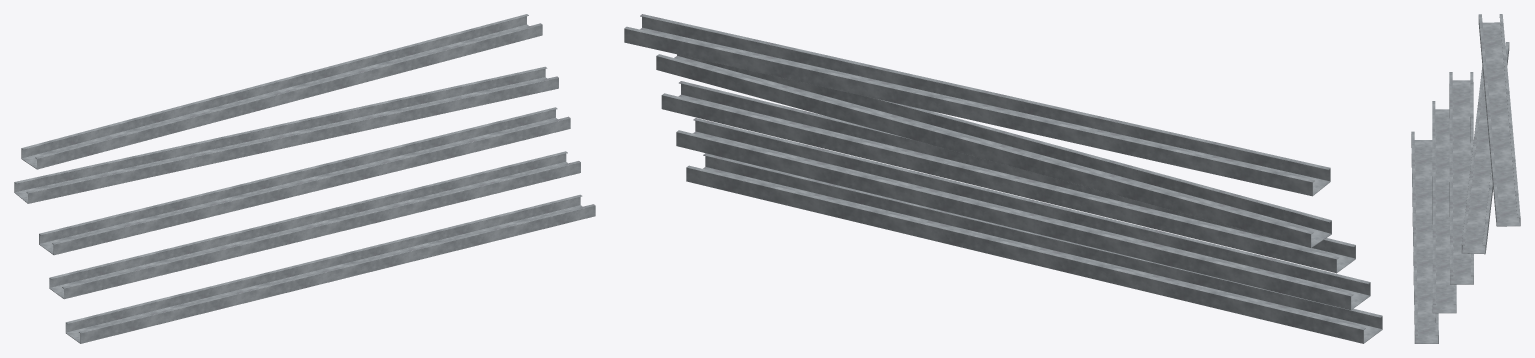
File: EST-MET-002_anim.glb
3 views of the same model, side by side, from view 1: azimuth 30°, elevation 25°; view 2: azimuth 150°, elevation 25°; view 3: azimuth 270°, elevation 25° (orthographic). The views are drawn at different scales.
Parts seen in each view (by area): view 1: EST-MET-002_anim3, EST-MET-002_anim1, EST-MET-002_anim2, EST-MET-002_anim0, EST-MET-002_anim4; view 2: EST-MET-002_anim4, EST-MET-002_anim1, EST-MET-002_anim0, EST-MET-002_anim3, EST-MET-002_anim2; view 3: EST-MET-002_anim4, EST-MET-002_anim2, EST-MET-002_anim0, EST-MET-002_anim1, EST-MET-002_anim3.
Part boxes in pixels (box(x1,y1,x2,y2)): EST-MET-002_anim3: box(14, 66, 558, 203); EST-MET-002_anim1: box(49, 151, 580, 299); EST-MET-002_anim2: box(39, 107, 570, 255); EST-MET-002_anim0: box(65, 194, 595, 343); EST-MET-002_anim4: box(21, 14, 542, 169); EST-MET-002_anim4: box(624, 14, 1330, 196); EST-MET-002_anim1: box(676, 118, 1370, 310); EST-MET-002_anim0: box(686, 153, 1382, 343); EST-MET-002_anim3: box(656, 54, 1331, 247); EST-MET-002_anim2: box(661, 81, 1355, 273); EST-MET-002_anim4: box(1478, 14, 1520, 226); EST-MET-002_anim2: box(1449, 72, 1473, 284); EST-MET-002_anim0: box(1411, 131, 1438, 343); EST-MET-002_anim1: box(1432, 101, 1456, 313); EST-MET-002_anim3: box(1461, 42, 1509, 254).
Size of the model in its own units: 3.04 by 0.8601 by 0.6801.
1 material, 1 textured.
